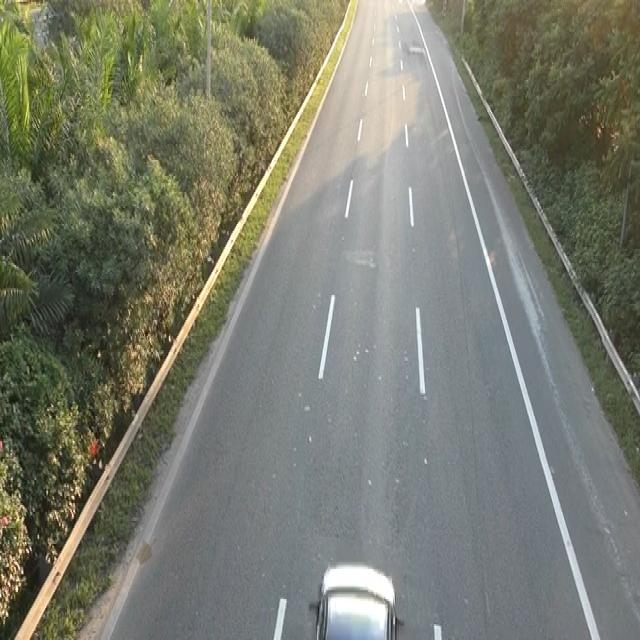bus: (311, 558, 404, 636)
